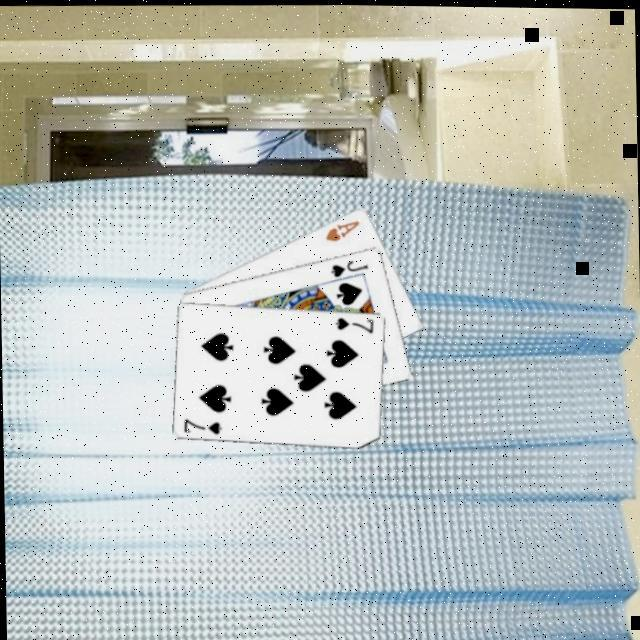7S: (330, 314, 374, 338), (178, 415, 222, 439)
AH: (320, 217, 360, 244)
JS: (326, 256, 368, 280)
